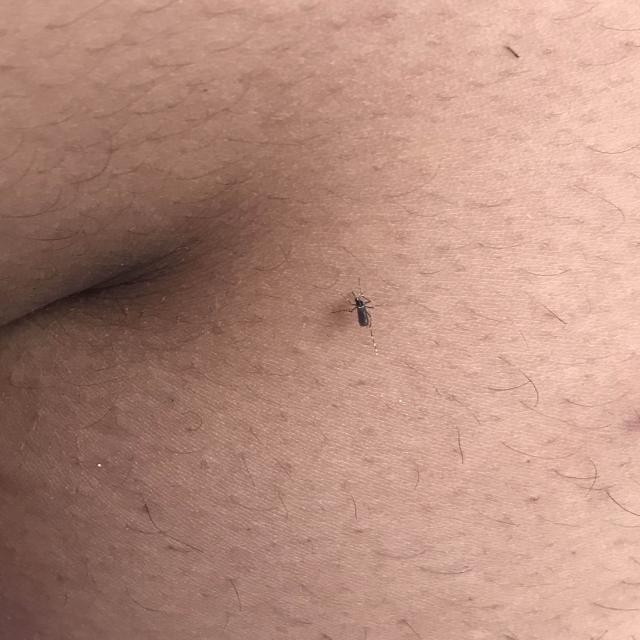albopictus: (312, 275, 392, 354)
